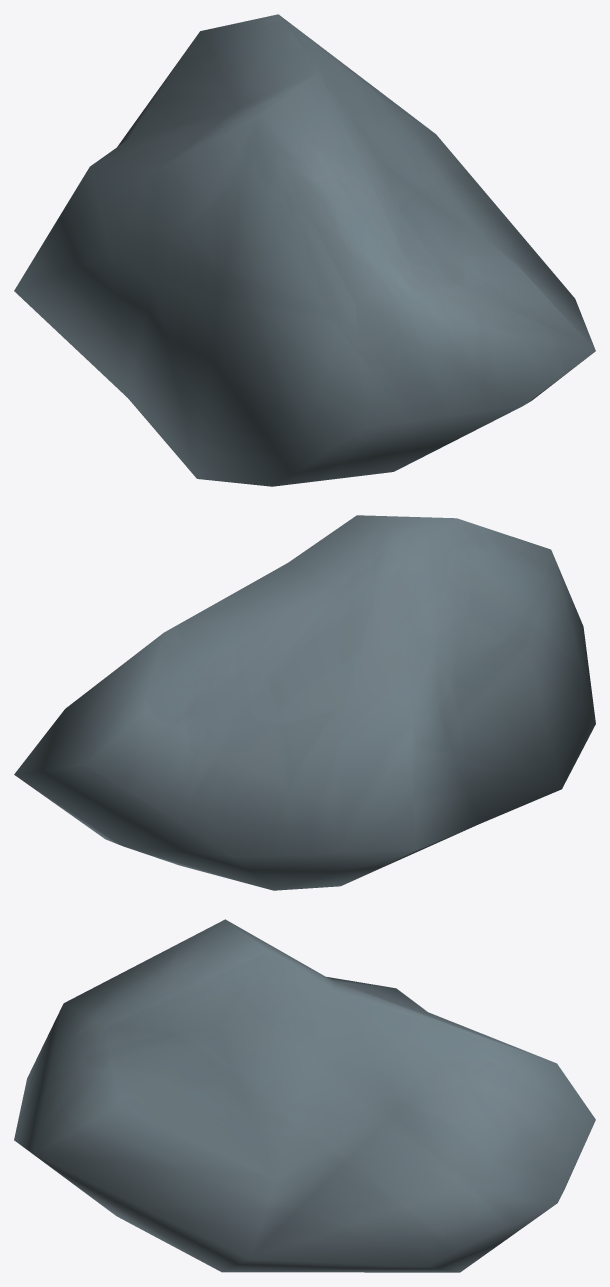
File: Rock_04.fbx
3 renders of one model, top to bottom at view 1: azimuth 30°, elevation 25°; view 2: azimuth 150°, elevation 25°; view 3: azimuth 270°, elevation 25°, orthographic. The views are drawn at different scales.
Visible parts, largest first — view 1: Rock_04; view 2: Rock_04; view 3: Rock_04.
Part boxes in pixels (box(x1,y1,x2,y2)): Rock_04: box(14, 14, 595, 486); Rock_04: box(14, 515, 595, 890); Rock_04: box(14, 919, 595, 1272).
Size of the model in its own units: 126 by 94.92 by 183.
